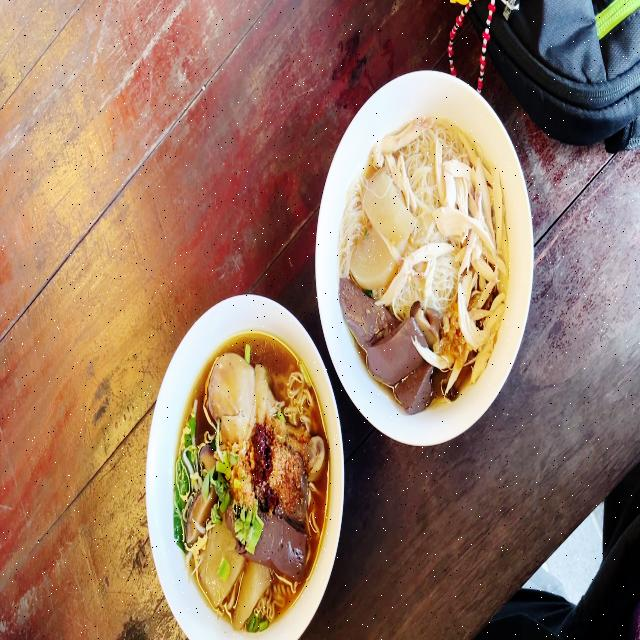boiled_chicken_blood_jelly: (333, 276, 392, 348), (261, 508, 305, 579), (374, 309, 415, 378), (388, 362, 430, 408)
chicken_drumstick: (204, 351, 326, 475)
chicken_shredded: (430, 134, 506, 390)
daikon_radish: (366, 166, 412, 263), (196, 524, 236, 604), (351, 232, 392, 286), (234, 563, 268, 628)
noodle: (340, 129, 507, 409), (175, 338, 328, 626)
